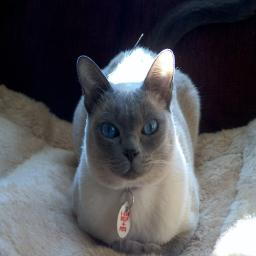catnose: (123, 147, 139, 162)
